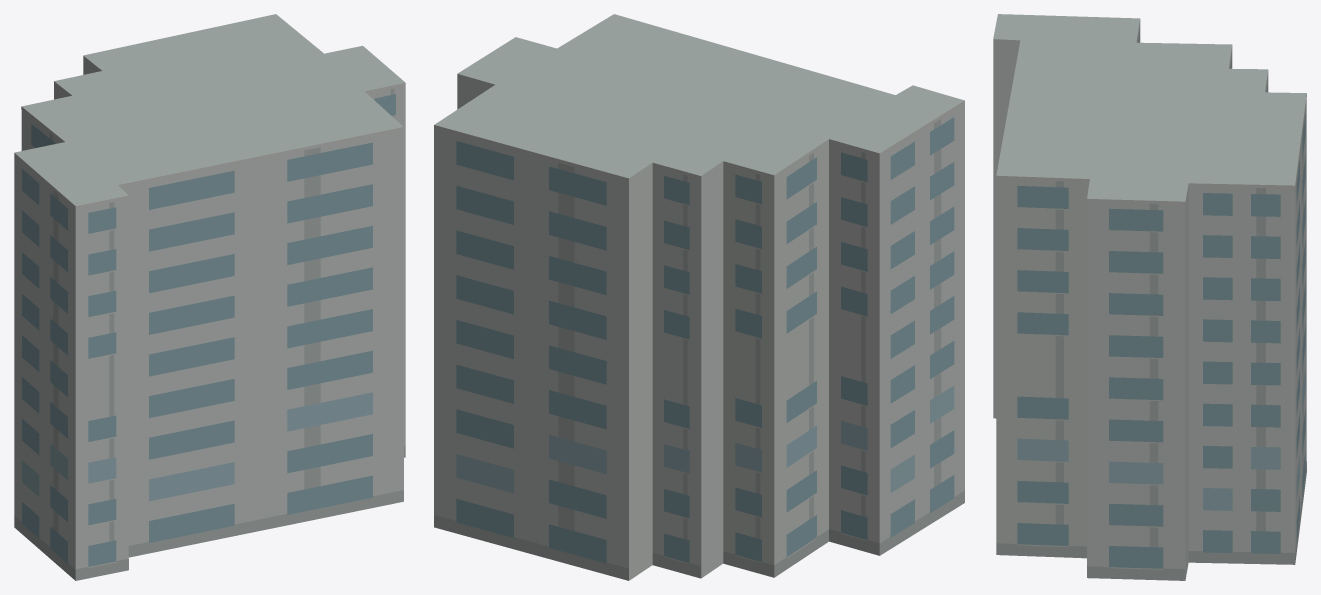
File: survey-upis-32622901.glb
3 renders of one model, left to right at view 1: azimuth 30°, elevation 25°; view 2: azimuth 150°, elevation 25°; view 3: azimuth 270°, elevation 25°, orthographic. The views are drawn at different scales.
Visible parts, largest first — view 1: survey-upis-32622901.tmp; view 2: survey-upis-32622901.tmp; view 3: survey-upis-32622901.tmp.
Part boxes in pixels (<box>): survey-upis-32622901.tmp: <box>14,14,405,580</box>; survey-upis-32622901.tmp: <box>434,14,964,580</box>; survey-upis-32622901.tmp: <box>993,14,1306,580</box>.
Size of the model in its own units: 29.13 by 27.45 by 20.59.
